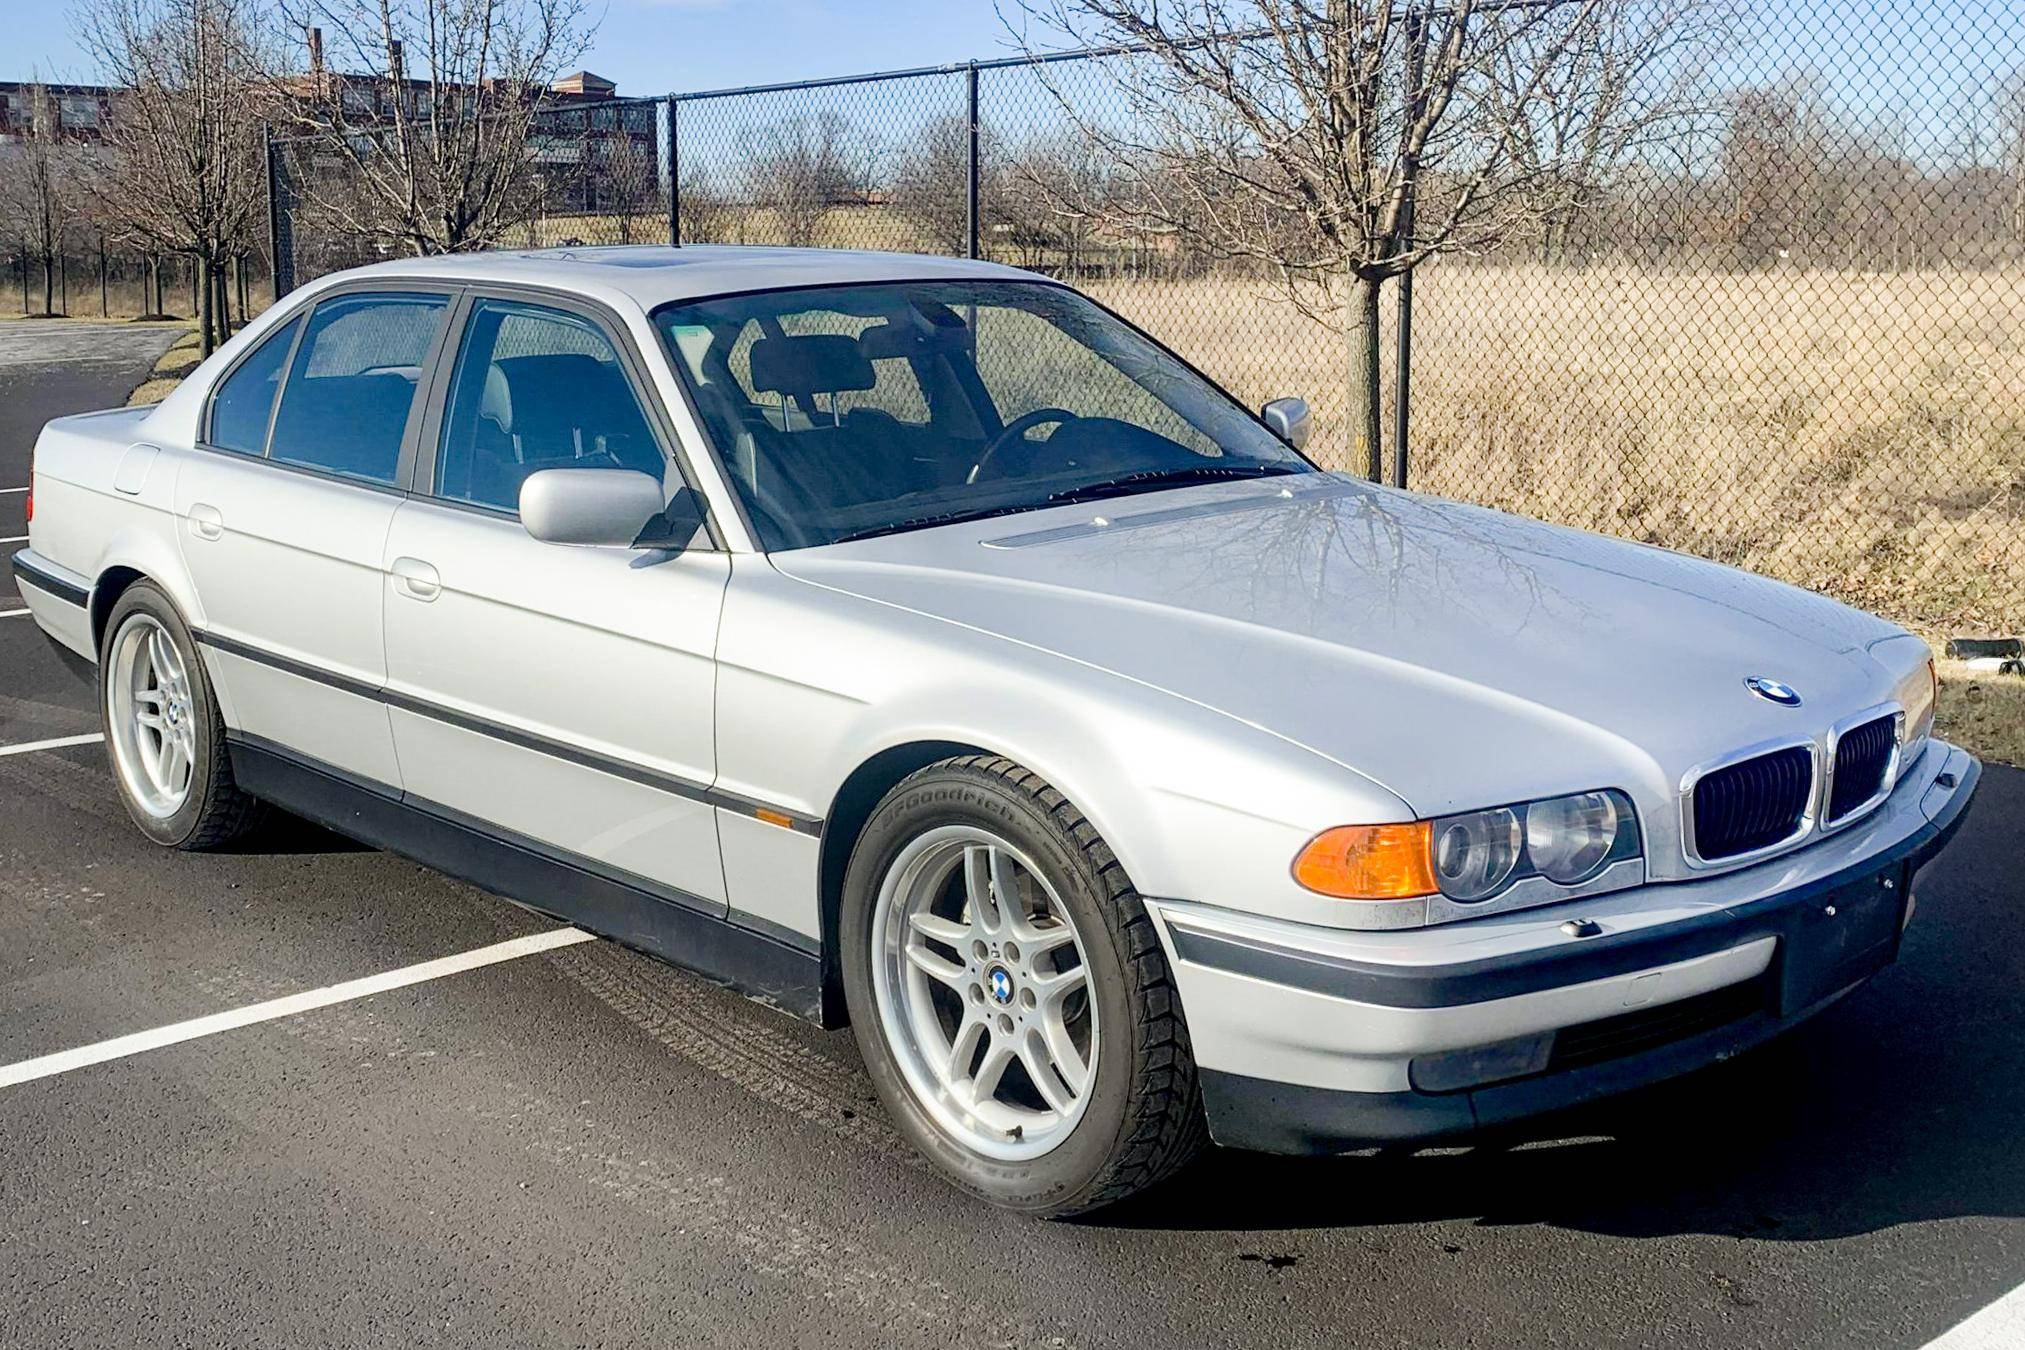car: (24, 234, 1993, 1229)
